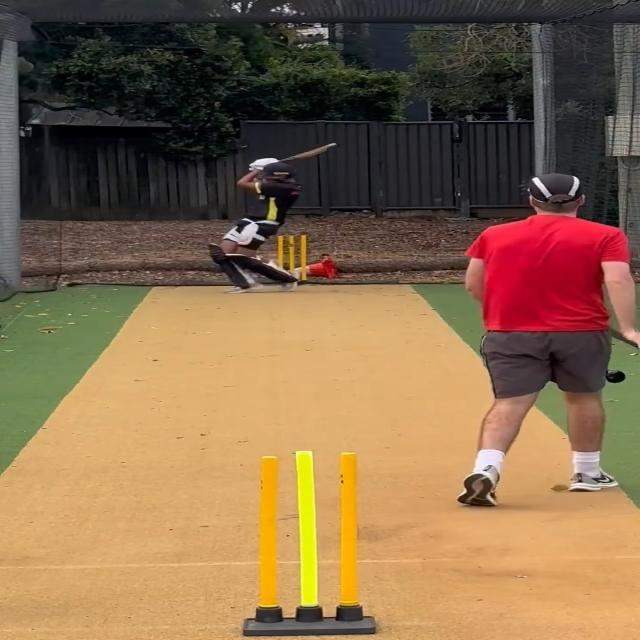stump: (240, 448, 380, 638), (275, 232, 310, 286)
